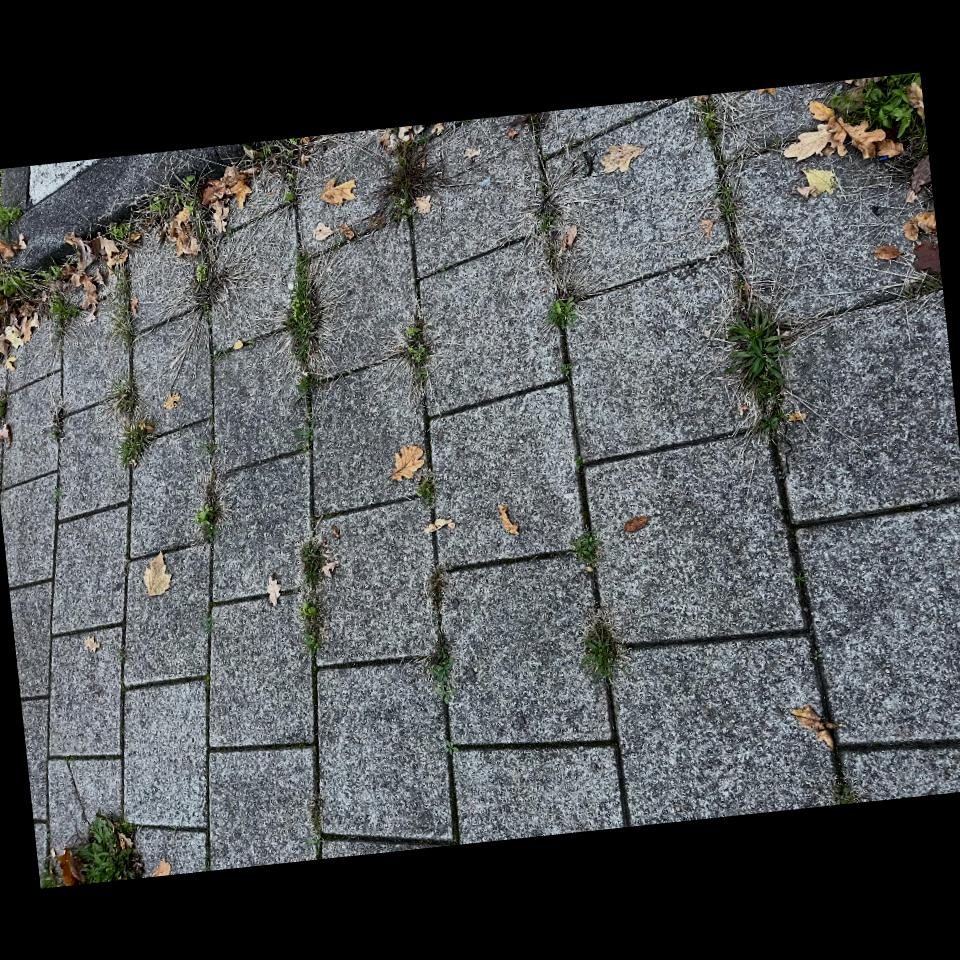weed: (466, 414, 600, 485), (625, 496, 708, 580), (618, 262, 689, 334), (452, 519, 536, 565), (198, 429, 317, 457), (174, 712, 238, 758), (0, 190, 38, 265), (386, 248, 435, 286), (312, 325, 376, 353), (432, 232, 480, 269), (525, 676, 562, 710), (524, 180, 560, 211), (287, 702, 321, 731), (478, 690, 490, 704)
